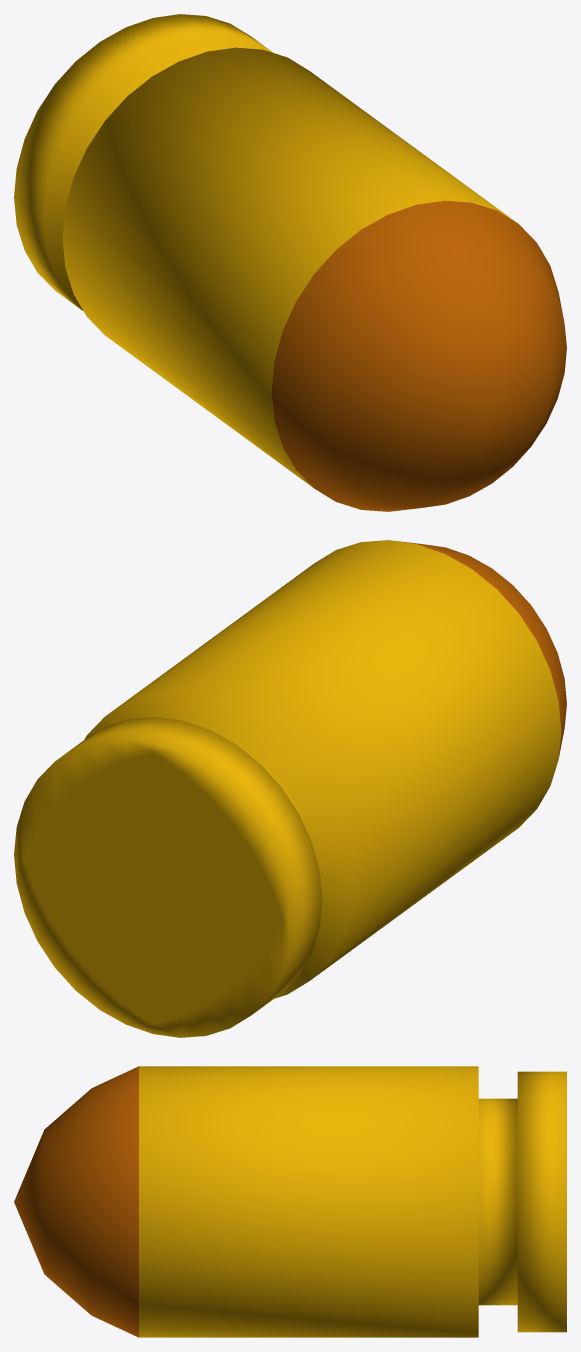
The model's file is Bullet.fbx.
3 views of the same model, one above another, from view 1: azimuth 30°, elevation 25°; view 2: azimuth 150°, elevation 25°; view 3: azimuth 270°, elevation 25° (orthographic). The views are drawn at different scales.
Visible parts, largest first — view 1: Circle; view 2: Circle; view 3: Circle.
Boxes of the visible parts, bbox=[...] form: Circle: bbox=[14, 14, 566, 511]; Circle: bbox=[14, 540, 566, 1037]; Circle: bbox=[14, 1066, 566, 1337].
Bounding box in the file's own units: 42.68 × 42.68 × 86.87.
